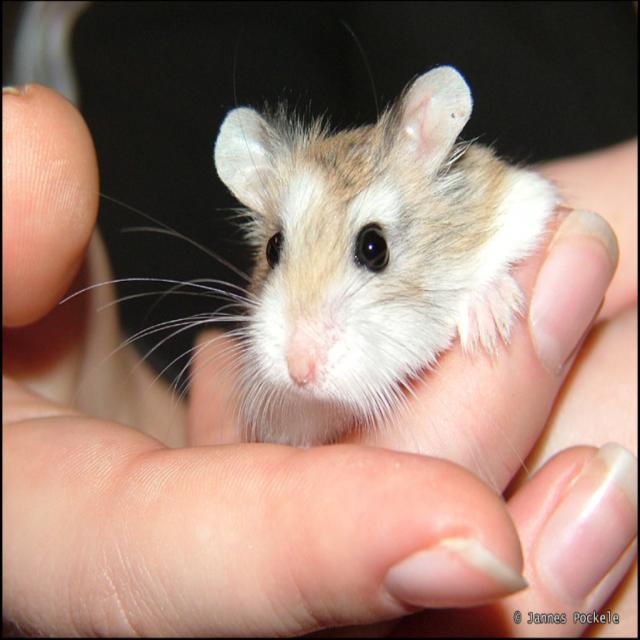rat: (213, 68, 563, 447)
